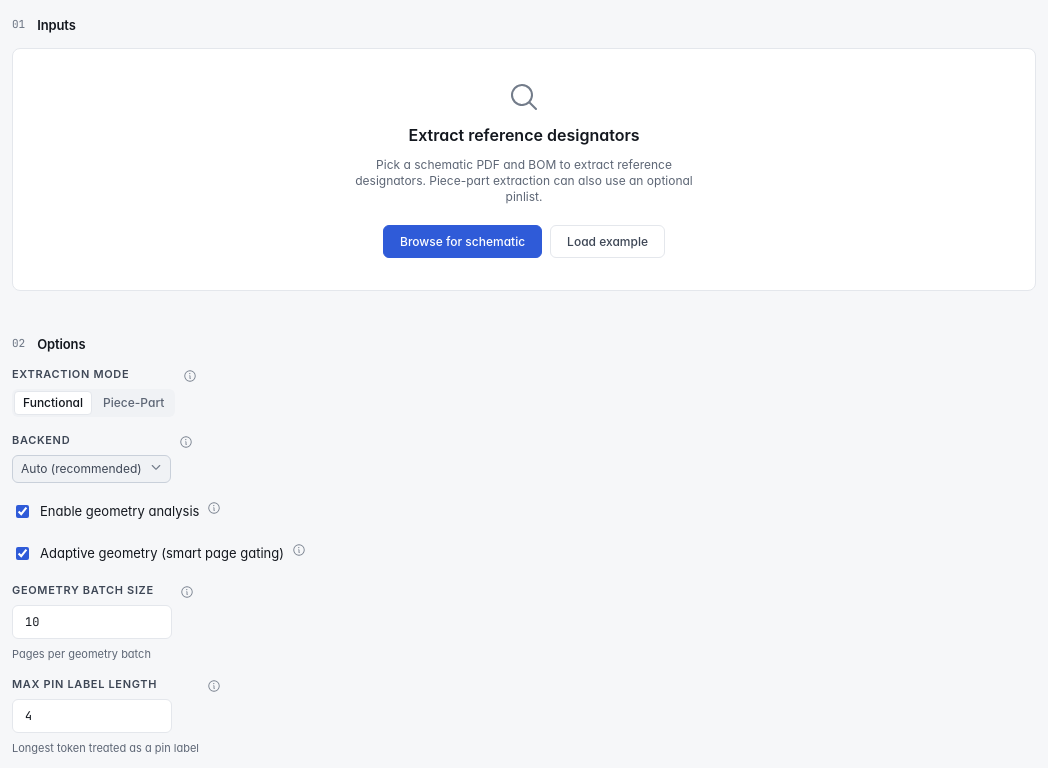
Test: RefDesExtractorTool piece-part mode › keeps the pinlist slot hidden in Functional mode after browsing a PDF
The image size is (1048, 768).
Click the button "Browse for schematic": (463,242) [383,225,542,258]
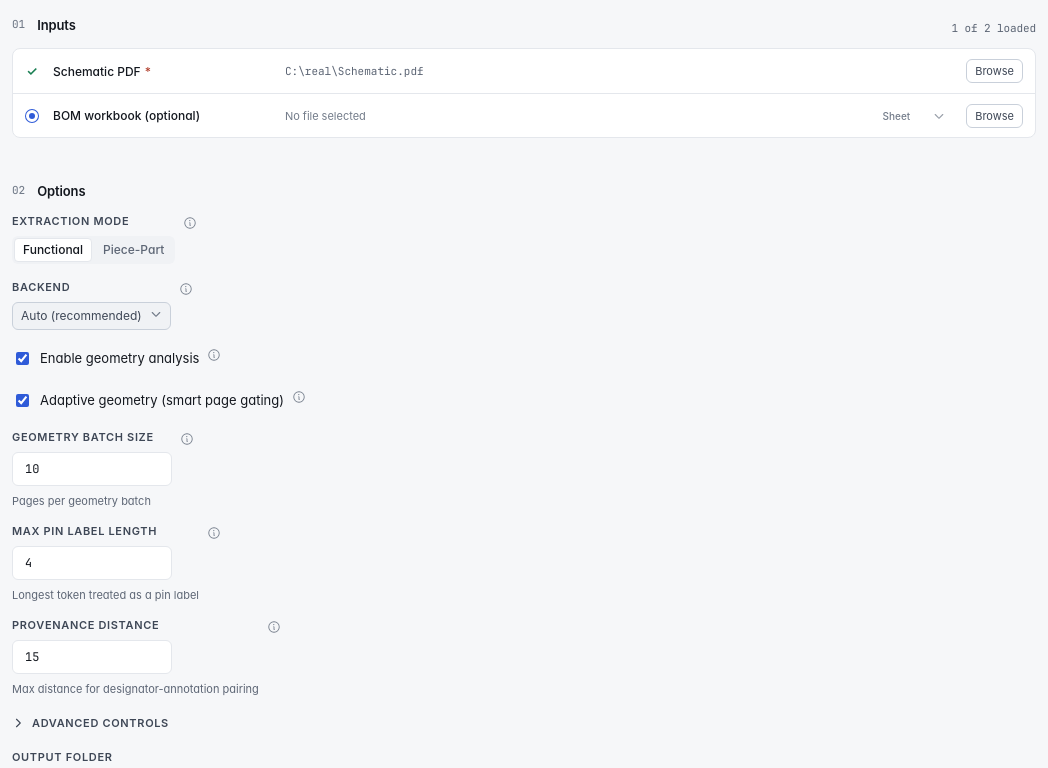
Expected: the text "Schematic PDF" is shown, [53,64,141,78]
Result: the text "BOM workbook (optional)" is shown at [53,108,200,123]
Result: the number of buttons "Browse" is 2 at [966,59,1023,83]; [966,104,1023,128]
